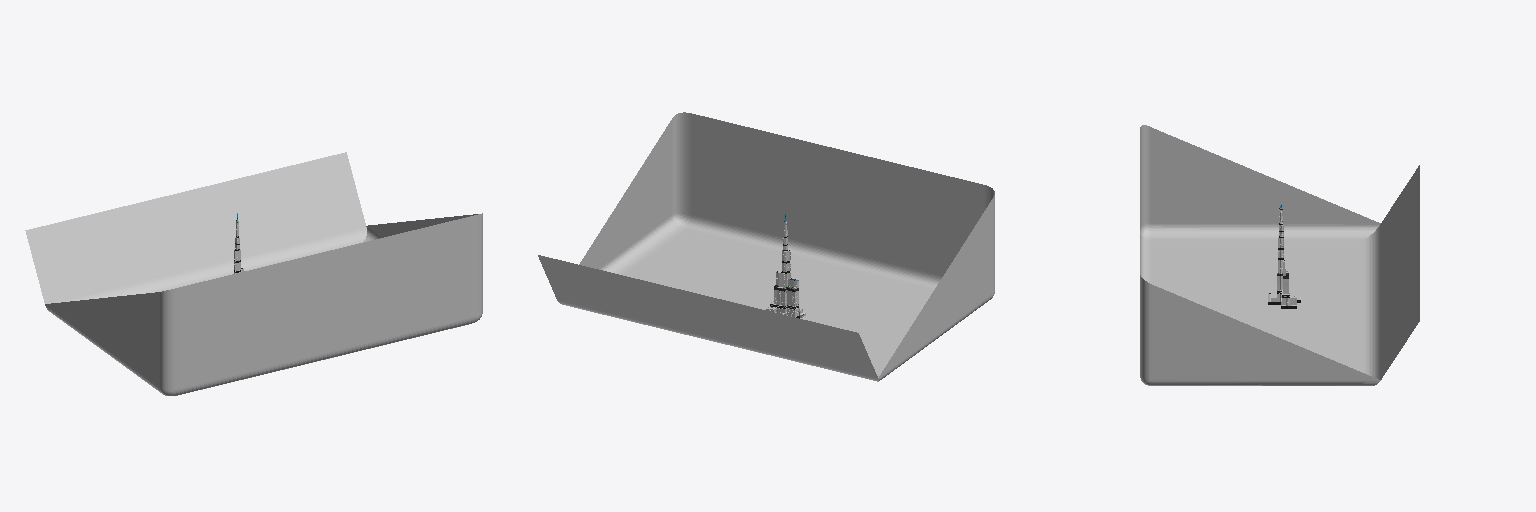
File: grattacielo.obj
The picture shows the model from 3 angles: view 1: azimuth 30°, elevation 25°; view 2: azimuth 150°, elevation 25°; view 3: azimuth 270°, elevation 25°; orthographic projection.
Visible parts, largest first — view 1: Plane; view 2: Plane, Cube; view 3: Plane, Cube.
Part boxes in pixels (x1,y1,x2,y2): Plane: (25,152,482,395); Plane: (538,112,994,381); Cube: (766,214,805,318); Plane: (1140,125,1419,385); Cube: (1268,205,1300,308).
Size of the model in its own units: 158 by 52.35 by 119.